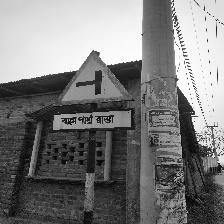Side-road-left: (52, 50, 136, 134)
